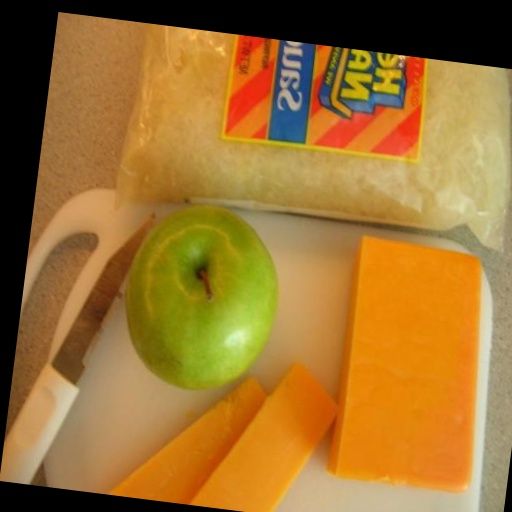fruit: (125, 205, 277, 389)
